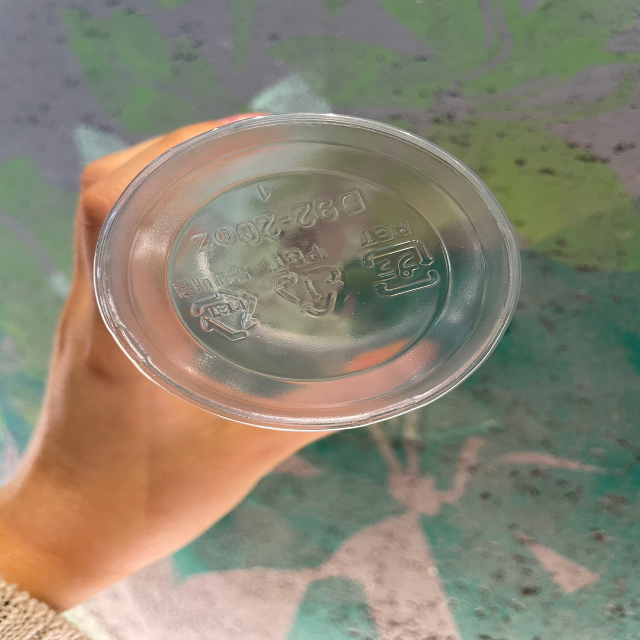pet: (359, 217, 449, 303), (173, 264, 263, 347), (267, 243, 347, 326)
